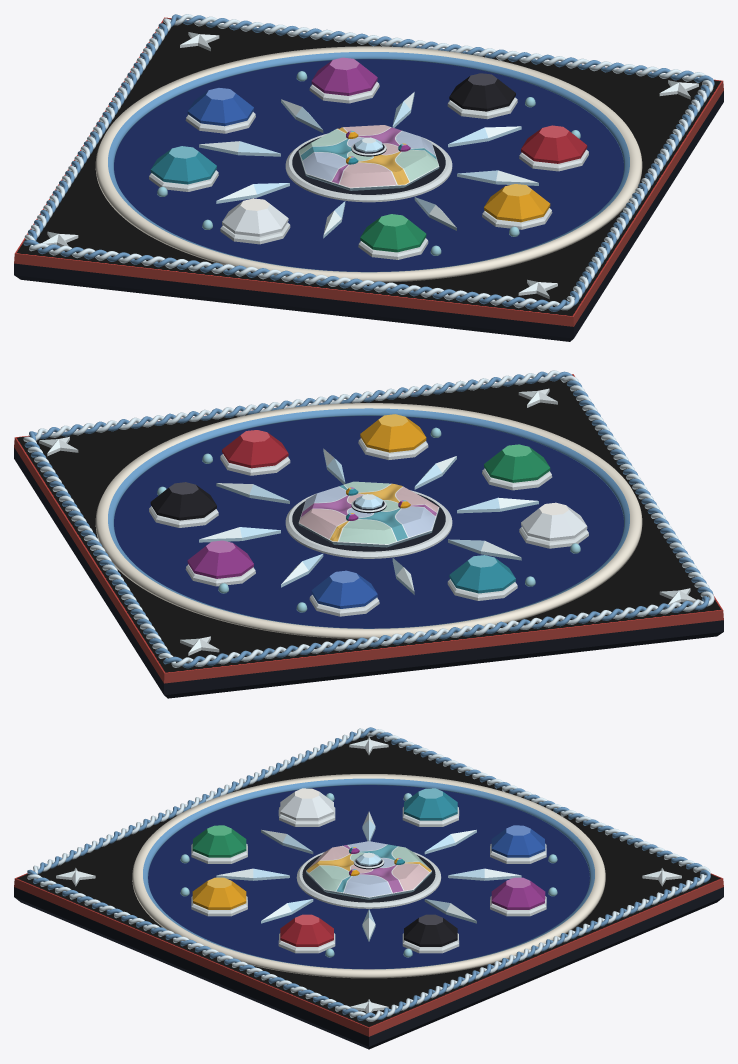
Rendered from mire-nolmeo (1).glb.
3 views of the same model, one above another, from view 1: azimuth 30°, elevation 25°; view 2: azimuth 150°, elevation 25°; view 3: azimuth 270°, elevation 25° (orthographic). The views are drawn at different scales.
Parts seen in each view (by area): view 1: Plaque · beveled plate, Outer rim · pale metal and blue enamel, Closed glass braid · strand 2, Closed glass braid · strand 1, Phase stone · vitreous octagon, Phase stone · round mounting, Violet · cut stone, Red · cut stone, Black · cut stone, Cyan · cut stone, Green · cut stone, White · cut stone (+14 smaller); view 2: Plaque · beveled plate, Outer rim · pale metal and blue enamel, Closed glass braid · strand 1, Closed glass braid · strand 2, Phase stone · vitreous octagon, Phase stone · round mounting, Amber · cut stone, Black · cut stone, Cyan · cut stone, Green · cut stone, White · cut stone, Violet · cut stone (+14 smaller); view 3: Plaque · beveled plate, Outer rim · pale metal and blue enamel, Closed glass braid · strand 2, Closed glass braid · strand 1, Phase stone · vitreous octagon, Phase stone · round mounting, Blue · cut stone, Green · cut stone, Amber · cut stone, Violet · cut stone, Cyan · cut stone, White · cut stone (+4 smaller).
Boxes of the visible parts, x1,y1,x2,y2 form: Plaque · beveled plate: [14, 17, 723, 341]; Outer rim · pale metal and blue enamel: [95, 46, 642, 282]; Closed glass braid · strand 2: [23, 14, 714, 311]; Closed glass braid · strand 1: [24, 14, 713, 310]; Phase stone · vitreous octagon: [298, 125, 439, 190]; Phase stone · round mounting: [285, 133, 452, 202]; Violet · cut stone: [311, 57, 377, 95]; Red · cut stone: [521, 125, 587, 163]; Black · cut stone: [449, 73, 515, 111]; Cyan · cut stone: [150, 146, 216, 184]; Green · cut stone: [360, 214, 426, 252]; White · cut stone: [222, 198, 288, 236]; Plaque · beveled plate: [14, 374, 723, 698]; Outer rim · pale metal and blue enamel: [95, 403, 642, 639]; Closed glass braid · strand 1: [23, 370, 714, 667]; Closed glass braid · strand 2: [24, 371, 713, 668]; Phase stone · vitreous octagon: [298, 481, 439, 547]; Phase stone · round mounting: [285, 490, 452, 558]; Amber · cut stone: [360, 414, 426, 452]; Black · cut stone: [150, 482, 216, 520]; Cyan · cut stone: [449, 555, 515, 593]; Green · cut stone: [484, 444, 550, 482]; White · cut stone: [521, 502, 587, 540]; Violet · cut stone: [187, 540, 253, 578]; Plaque · beveled plate: [14, 731, 723, 1049]; Outer rim · pale metal and blue enamel: [132, 774, 605, 978]; Closed glass braid · strand 2: [27, 727, 710, 1020]; Closed glass braid · strand 1: [27, 728, 710, 1021]; Phase stone · vitreous octagon: [306, 841, 431, 899]; Phase stone · round mounting: [296, 852, 441, 908]; Blue · cut stone: [491, 825, 545, 857]; Green · cut stone: [192, 825, 246, 857]; Amber · cut stone: [192, 877, 246, 909]; Violet · cut stone: [491, 877, 545, 909]; Cyan · cut stone: [404, 788, 457, 820]; White · cut stone: [280, 788, 333, 820].
Size of the model in its own units: 0.112 by 0.0082 by 0.112.
50 materials, 3 textured.
